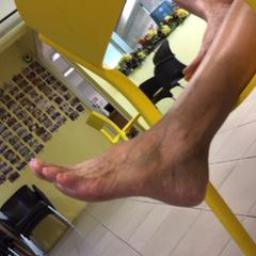Lateral View -Left Foot-: (20, 106, 235, 216)
